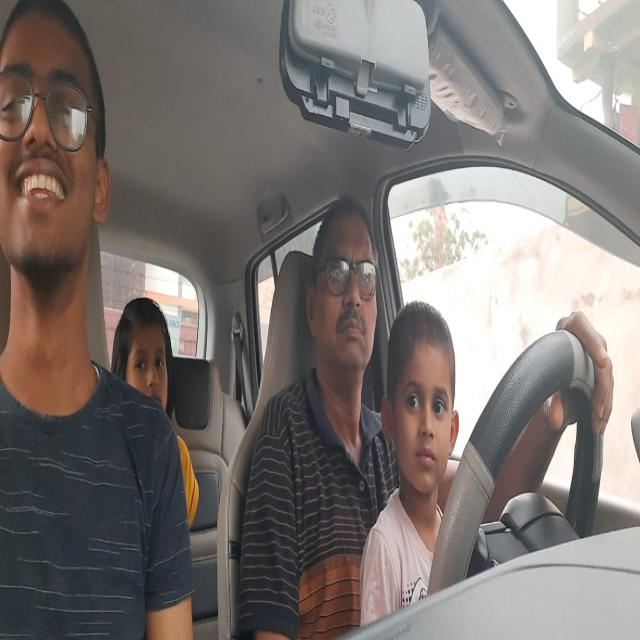child: (388, 293, 458, 505)
person: (1, 10, 111, 308), (302, 197, 383, 398), (116, 276, 176, 437)
